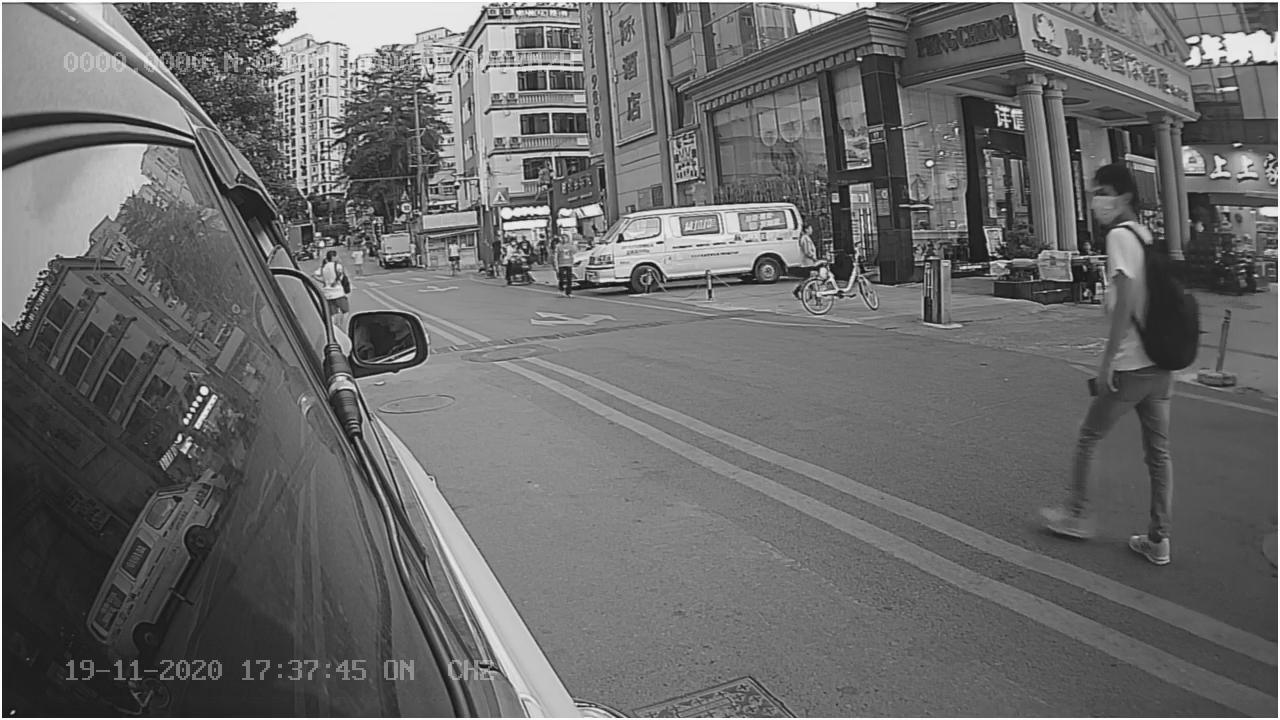person: (1069, 156, 1192, 532)
